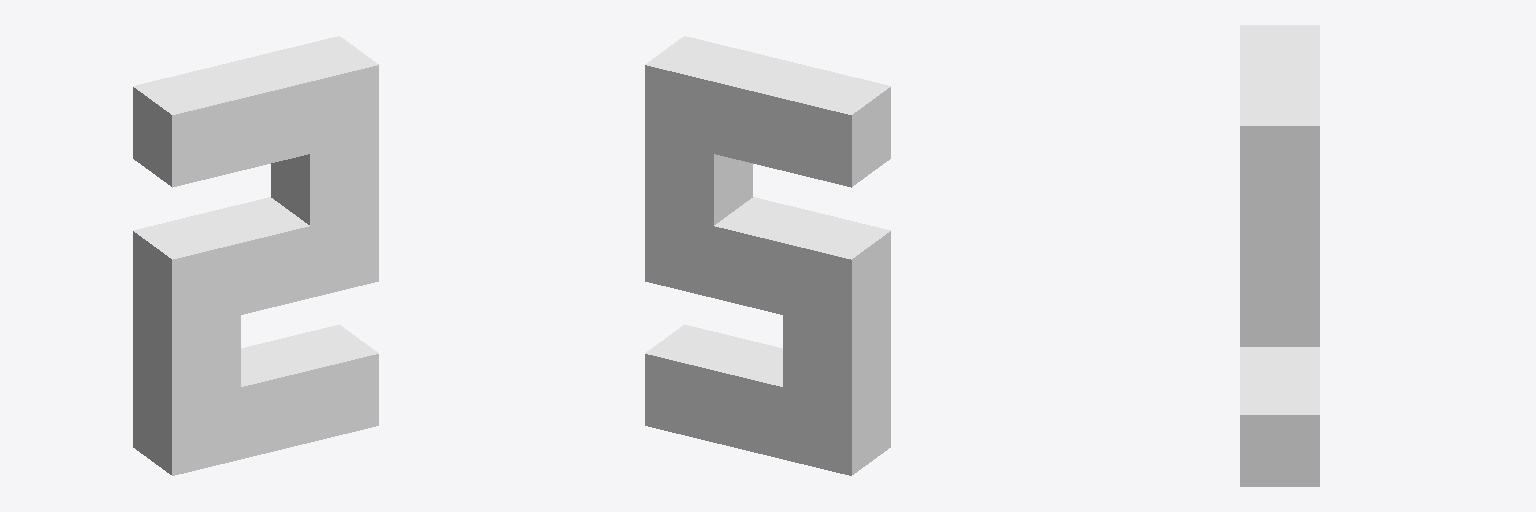
File: digit_2_r.obj
The picture shows the model from 3 angles: view 1: azimuth 30°, elevation 25°; view 2: azimuth 150°, elevation 25°; view 3: azimuth 270°, elevation 25°; orthographic projection.
Visible parts, largest first — view 1: object 1; view 2: object 1; view 3: object 1.
Boxes of the visible parts, <box> form: object 1: <box>133,36,378,475</box>; object 1: <box>645,36,890,475</box>; object 1: <box>1240,25,1319,486</box>.
Size of the model in its own units: 0.6 by 1 by 0.2.